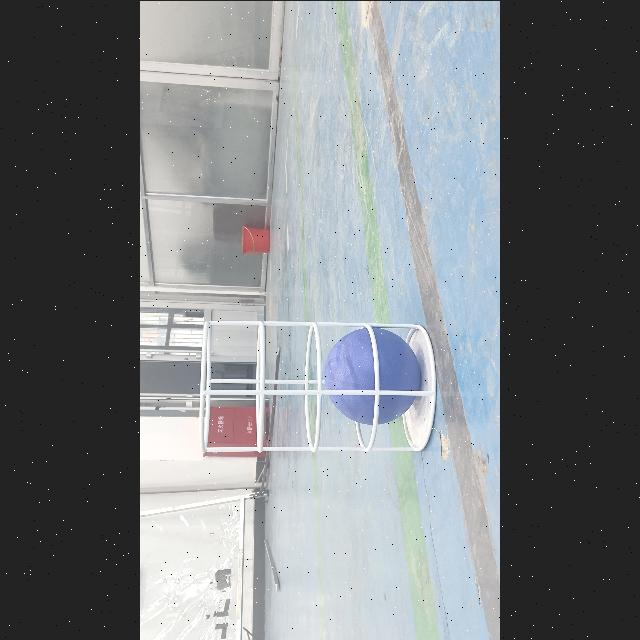B: (325, 326, 421, 424)
S: (195, 313, 442, 463)
